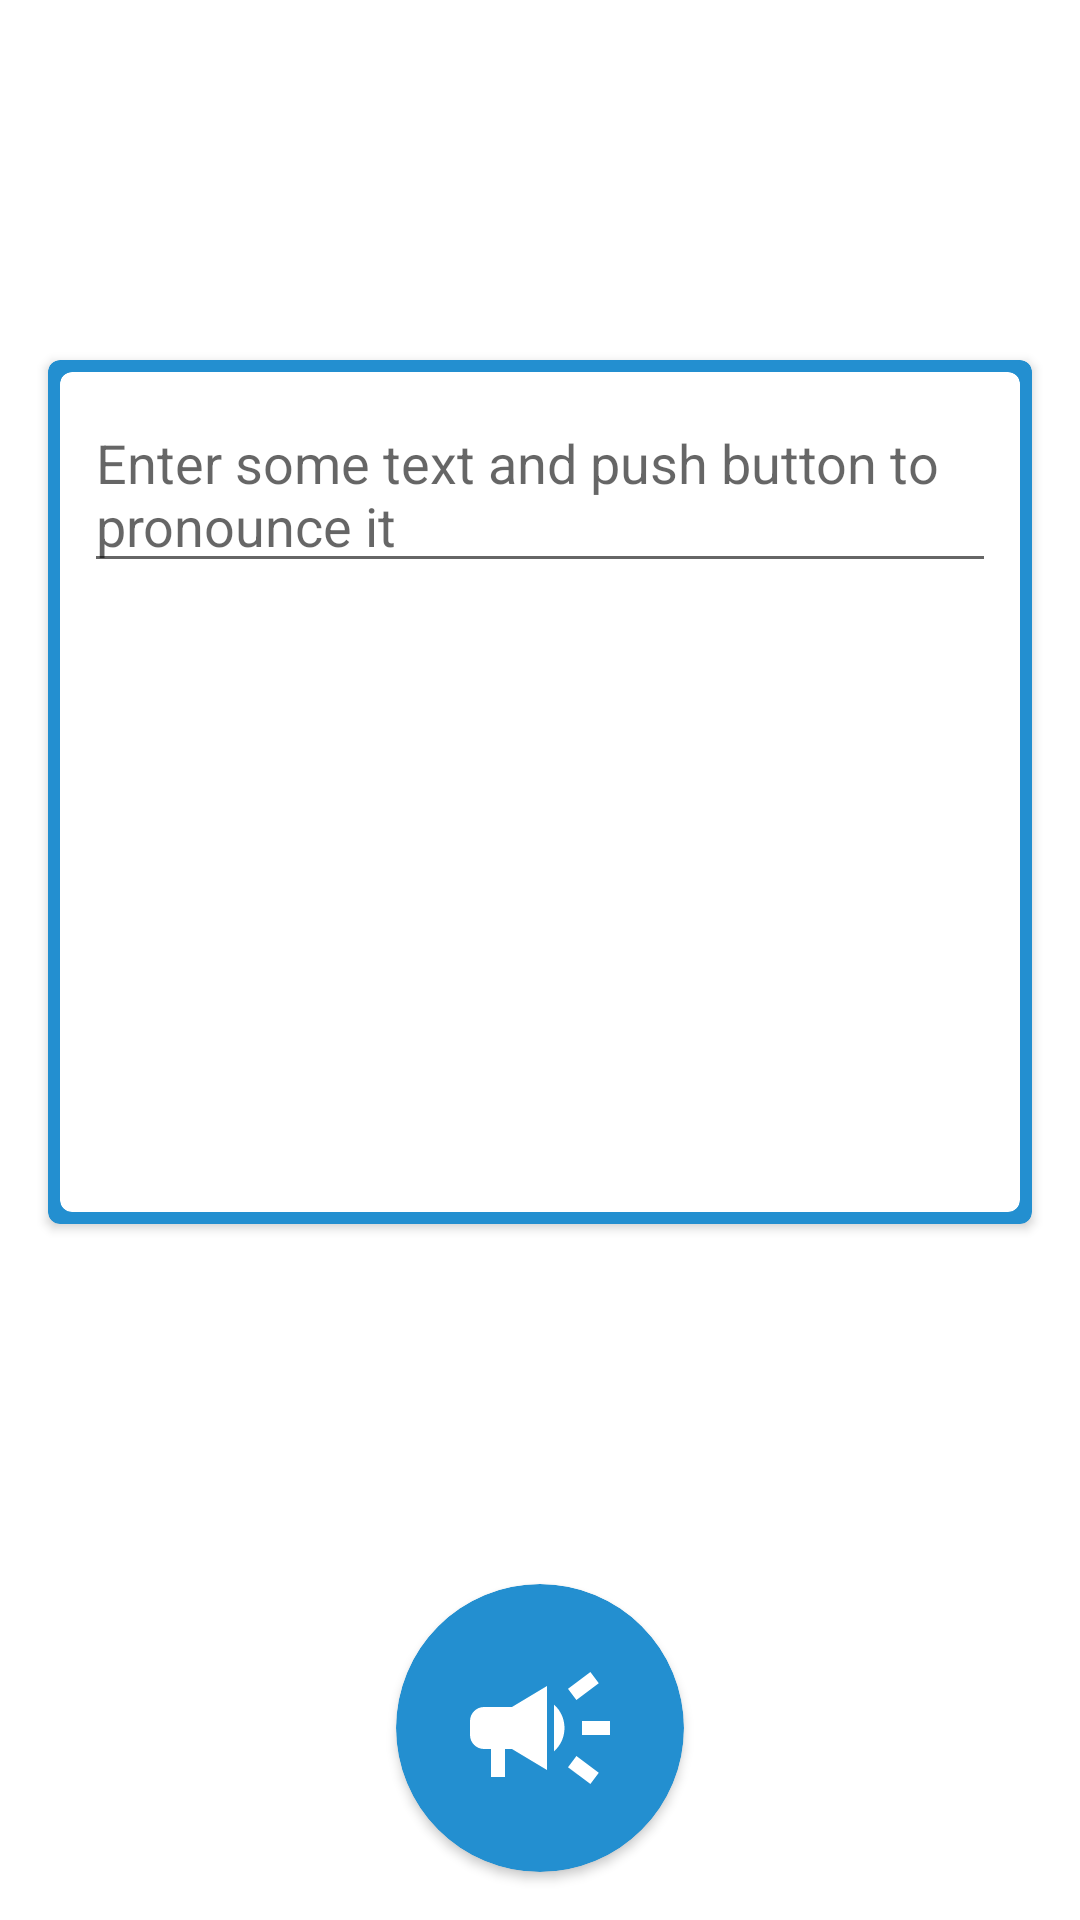

Icons on this 1080*1920 Android screen, each with its box as {"x1": x1, "y1": y1, "x2": x2, "y2": y2}:
speaker: {"x1": 470, "y1": 1672, "x2": 610, "y2": 1784}
